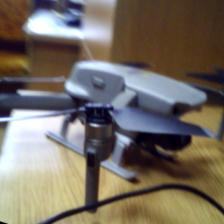drone: (0, 40, 224, 206)
